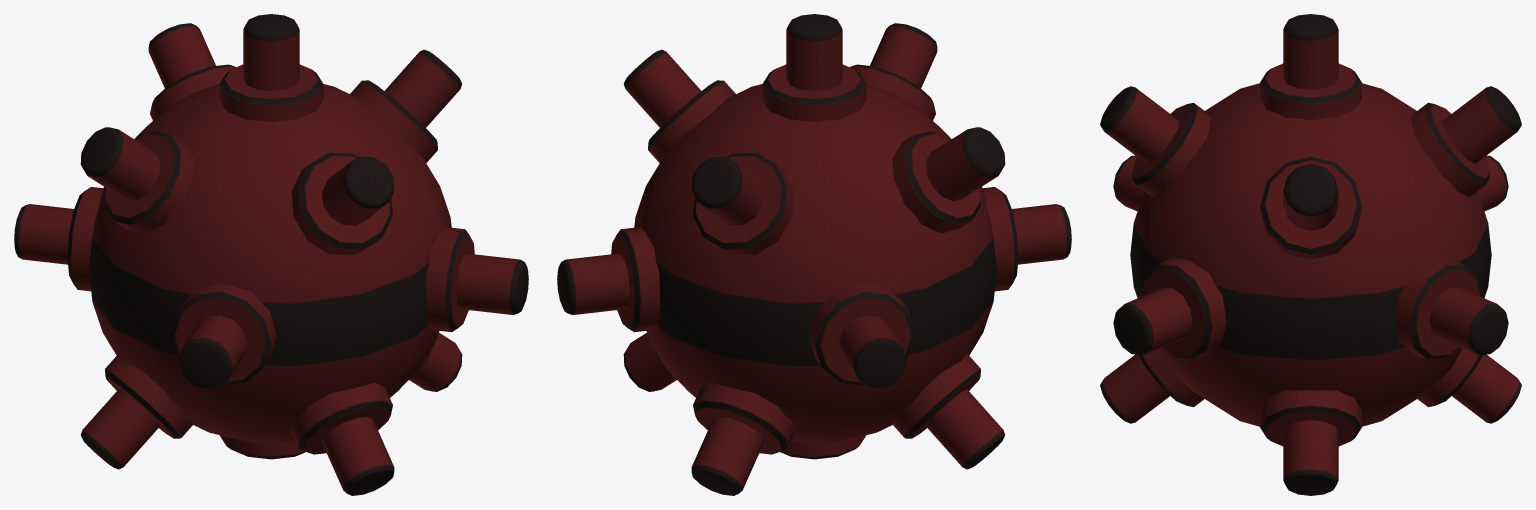
Rendered from SM_Sea_Mine.fbx.
The picture shows the model from 3 angles, left to right: view 1: azimuth 30°, elevation 25°; view 2: azimuth 150°, elevation 25°; view 3: azimuth 270°, elevation 25°; orthographic projection.
Parts seen in each view (by area): view 1: SeaMine_Body, Seamine_Spike01, Seamine_Spike05, Seamine_Spike04, Seamine_Spike03, SeaMine_SpikeRing06, SeaMine_SpikeRing02, SeaMine_SpikeRing03, SeaMine_SpikeRing01, SeaMine_SpikeRing07, SeaMine_SpikeRing04, SeaMine_SpikeRing05 (+3 smaller); view 2: SeaMine_Body, Seamine_Spike01, Seamine_Spike06, Seamine_Spike02, Seamine_Spike03, SeaMine_SpikeRing07, SeaMine_SpikeRing04, SeaMine_SpikeRing03, SeaMine_SpikeRing01, SeaMine_SpikeRing06, SeaMine_SpikeRing02, SeaMine_SpikeRing05 (+3 smaller); view 3: SeaMine_Body, Seamine_Spike02, Seamine_Spike04, SeaMine_SpikeRing03, Seamine_Spike05, Seamine_Spike06, SeaMine_SpikeRing02, SeaMine_SpikeRing04, SeaMine_SpikeRing06, SeaMine_SpikeRing07, SeaMine_Top_Spike, Seamine_Spike03 (+3 smaller).
Part boxes in pixels (x1=…): SeaMine_Body: x1=89, y1=83, x2=451, y2=443; Seamine_Spike01: x1=81, y1=49, x2=462, y2=469; Seamine_Spike05: x1=14, y1=204, x2=528, y2=314; Seamine_Spike04: x1=148, y1=23, x2=394, y2=495; Seamine_Spike03: x1=80, y1=127, x2=462, y2=391; SeaMine_SpikeRing06: x1=67, y1=187, x2=474, y2=332; SeaMine_SpikeRing02: x1=150, y1=64, x2=392, y2=454; SeaMine_SpikeRing03: x1=105, y1=80, x2=437, y2=438; SeaMine_SpikeRing01: x1=219, y1=64, x2=323, y2=459; SeaMine_SpikeRing07: x1=171, y1=284, x2=276, y2=385; SeaMine_SpikeRing04: x1=291, y1=152, x2=392, y2=254; SeaMine_SpikeRing05: x1=105, y1=131, x2=431, y2=365; SeaMine_Body: x1=634, y1=83, x2=996, y2=443; Seamine_Spike01: x1=623, y1=49, x2=1004, y2=469; Seamine_Spike06: x1=557, y1=204, x2=1071, y2=314; Seamine_Spike02: x1=691, y1=23, x2=937, y2=495; Seamine_Spike03: x1=623, y1=127, x2=1005, y2=391; SeaMine_SpikeRing07: x1=611, y1=187, x2=1018, y2=332; SeaMine_SpikeRing04: x1=693, y1=64, x2=935, y2=454; SeaMine_SpikeRing03: x1=648, y1=80, x2=980, y2=438; SeaMine_SpikeRing01: x1=762, y1=64, x2=866, y2=459; SeaMine_SpikeRing06: x1=809, y1=284, x2=914, y2=385; SeaMine_SpikeRing02: x1=693, y1=152, x2=794, y2=254; SeaMine_SpikeRing05: x1=654, y1=131, x2=980, y2=365; SeaMine_Body: x1=1130, y1=83, x2=1491, y2=426; Seamine_Spike02: x1=1100, y1=86, x2=1521, y2=423; Seamine_Spike04: x1=1100, y1=86, x2=1521, y2=423; SeaMine_SpikeRing03: x1=1260, y1=156, x2=1361, y2=259; Seamine_Spike05: x1=1113, y1=155, x2=1508, y2=355; Seamine_Spike06: x1=1113, y1=155, x2=1508, y2=355; SeaMine_SpikeRing02: x1=1138, y1=102, x2=1489, y2=407; SeaMine_SpikeRing04: x1=1132, y1=102, x2=1483, y2=407; SeaMine_SpikeRing06: x1=1140, y1=258, x2=1226, y2=359; SeaMine_SpikeRing07: x1=1395, y1=258, x2=1481, y2=359; SeaMine_Top_Spike: x1=1283, y1=14, x2=1338, y2=89; Seamine_Spike03: x1=1283, y1=420, x2=1338, y2=495.
Size of the model in its own units: 2.33 by 2.5 by 2.33.
Materials: 1 (1 with a texture image).
